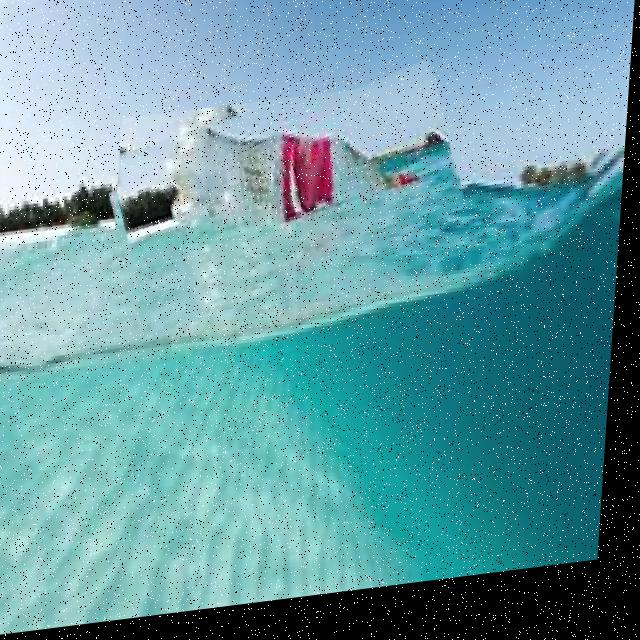litter: (113, 88, 469, 329)
